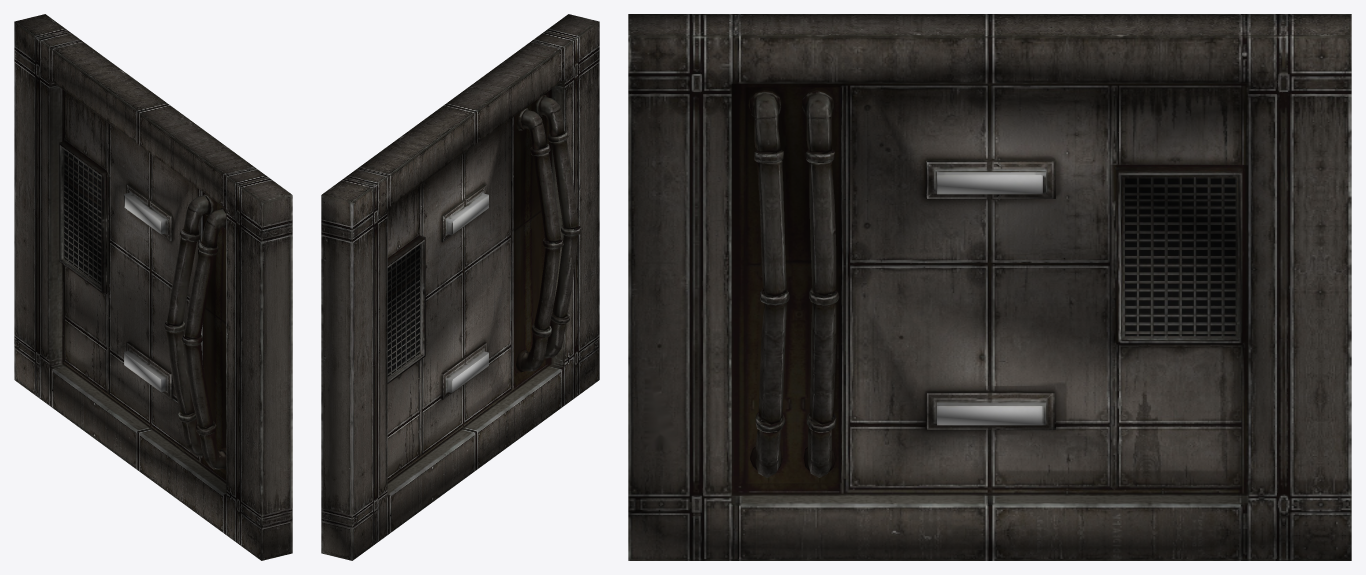
The model's file is Concrete_large_Cieling_1.glb.
The picture shows the model from 3 angles, left to right: view 1: azimuth 30°, elevation 25°; view 2: azimuth 150°, elevation 25°; view 3: azimuth 270°, elevation 25°; orthographic projection. The views are drawn at different scales.
Parts seen in each view (by area): view 1: tripo_node_a415488a-52f3-4076-ae20-b67f2c356f2e; view 2: tripo_node_a415488a-52f3-4076-ae20-b67f2c356f2e; view 3: tripo_node_a415488a-52f3-4076-ae20-b67f2c356f2e.
Boxes of the visible parts, bbox=[...] form: tripo_node_a415488a-52f3-4076-ae20-b67f2c356f2e: bbox=[14, 14, 292, 560]; tripo_node_a415488a-52f3-4076-ae20-b67f2c356f2e: bbox=[321, 14, 599, 560]; tripo_node_a415488a-52f3-4076-ae20-b67f2c356f2e: bbox=[628, 14, 1351, 560].
Size of the model in its own units: 0.209 by 0.7988 by 0.998.
Materials: 1 (1 with a texture image).
